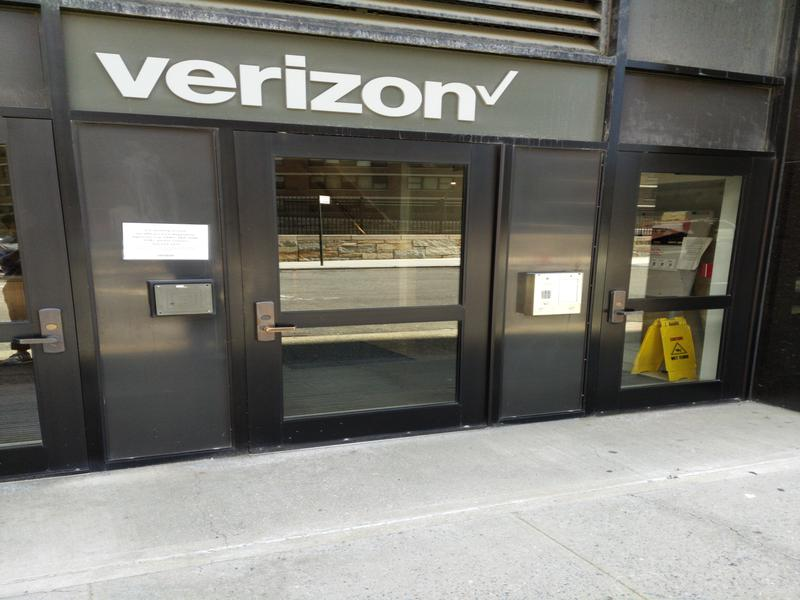door: (234, 126, 498, 435), (594, 142, 754, 409), (1, 117, 94, 488)
